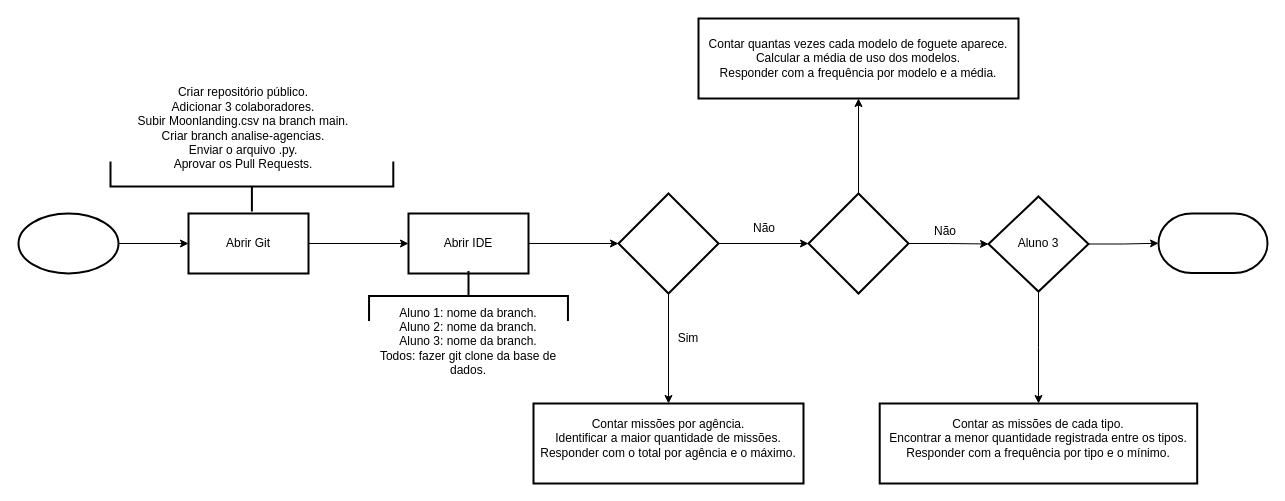
The diagram is 1285 pixels wide and 501 high, and some of its shapes have lost their labels. The shapes that lost their labels are listed below. From the top down, each one's box as (x1, y1, x2, y2) in pixels, then its label:
(17, 212, 119, 274): Começo
(617, 192, 719, 294): Aluno 1
(807, 192, 909, 294): Aluno 2
(1157, 212, 1268, 274): End
